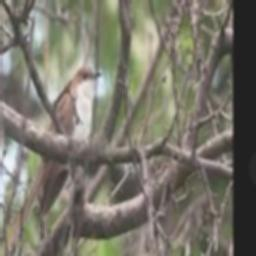Cuckoo: (1, 64, 100, 256)
